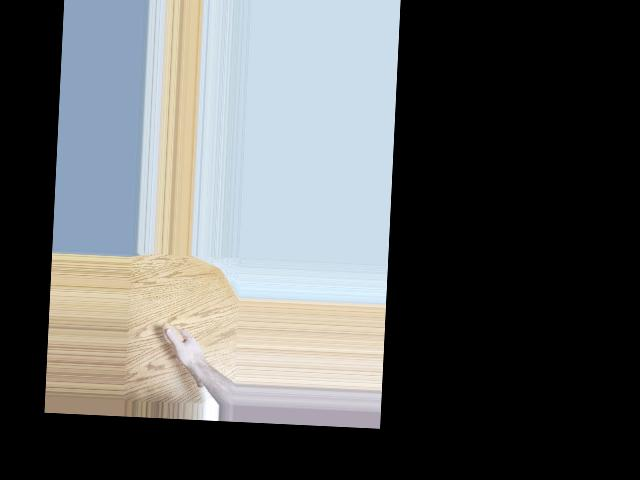sweet_potato: (159, 321, 206, 387)
